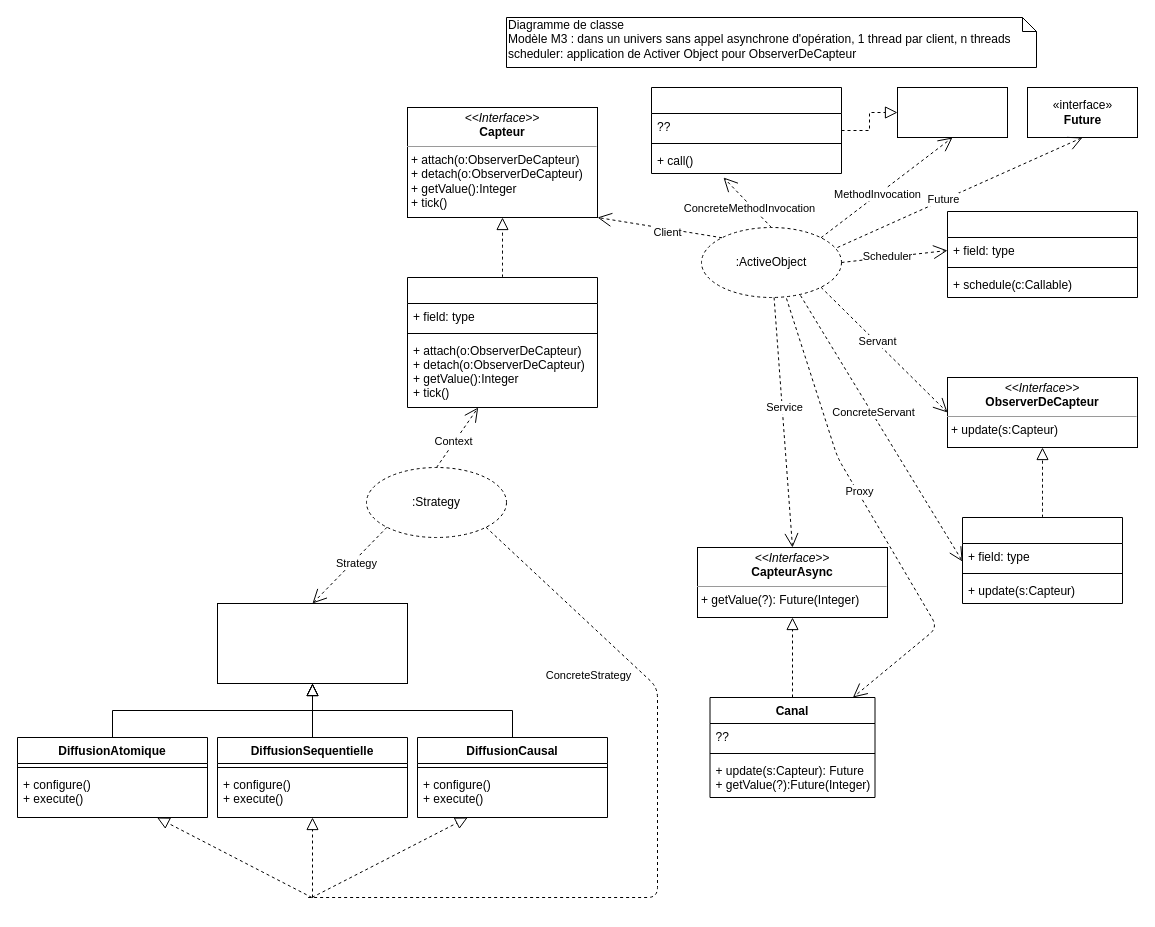
Image size: 1155x927. Some labels were removed from this diagram. Each missing label, with the box of its shape:
<<Interface>> AlgoDiffusion + configure() + execute(): (216, 602, 408, 684)
Afficheur: (962, 516, 1122, 604)
CapteurImpl: (406, 276, 598, 408)
ScheduledExecutorService: (946, 210, 1138, 298)
Update: (650, 86, 842, 174)
«interface» Callable: (896, 86, 1008, 138)
